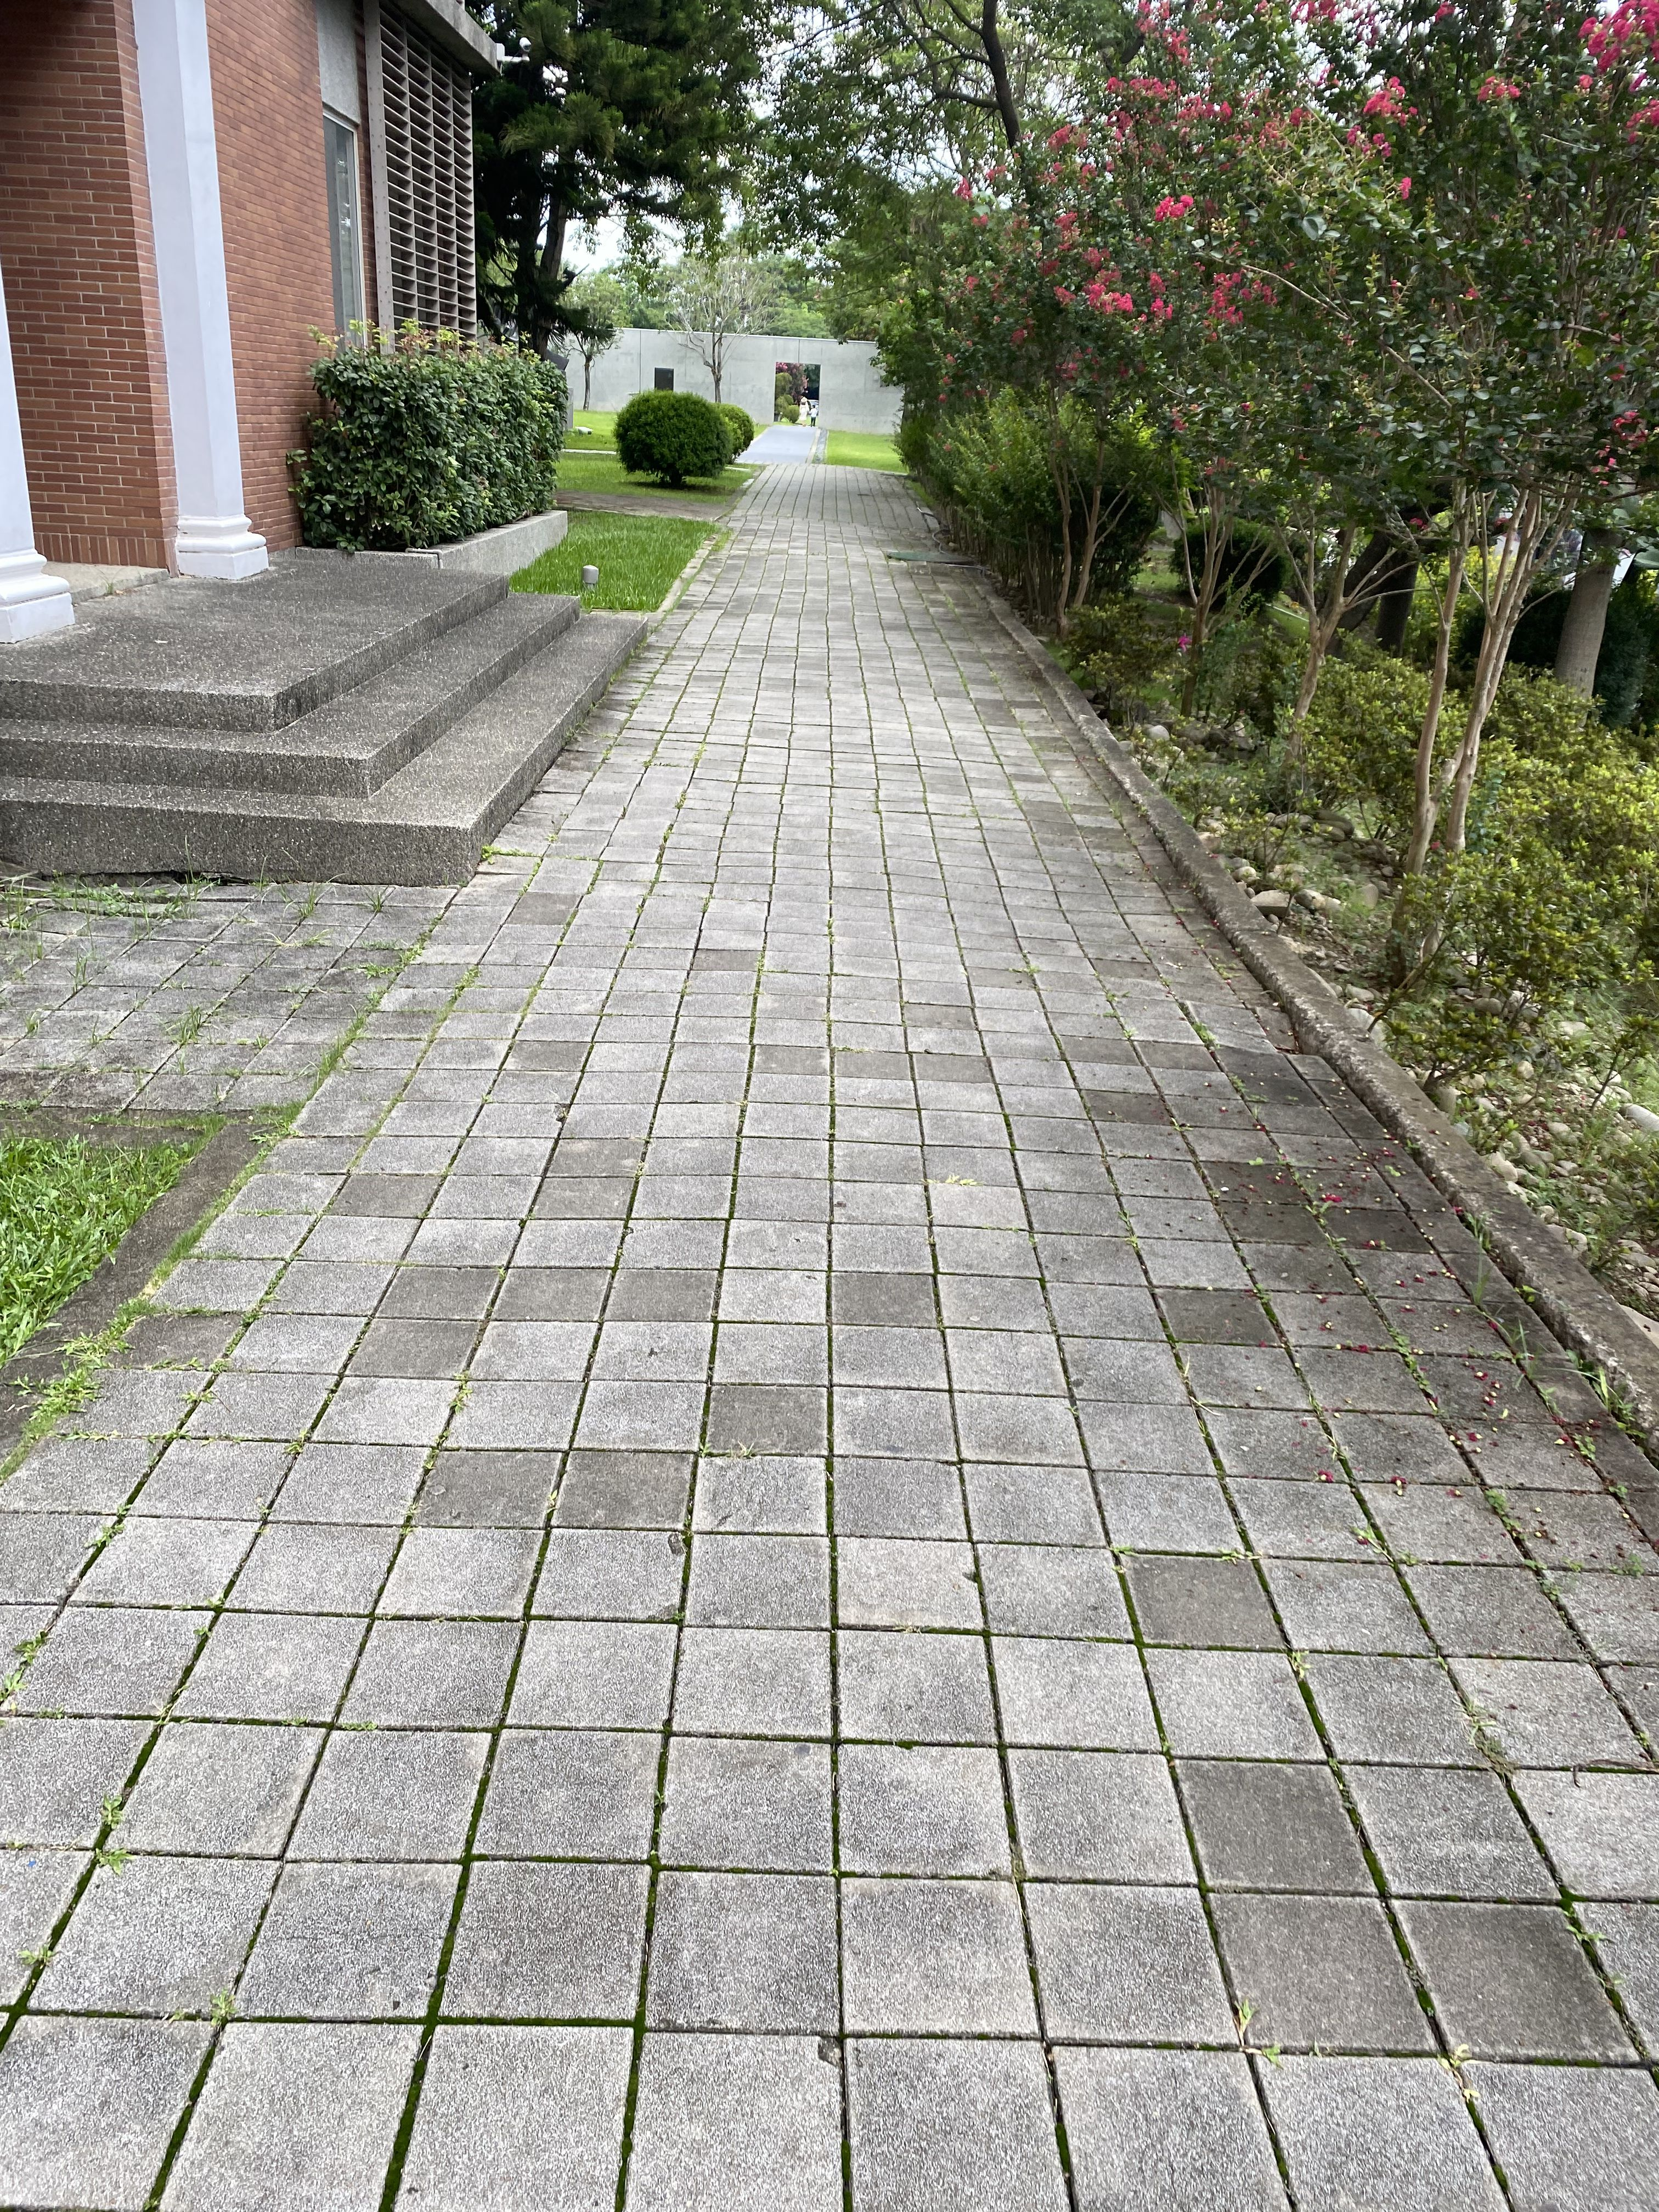0: (10, 540, 1659, 2200)
sidewalk: (704, 456, 1028, 1435)
